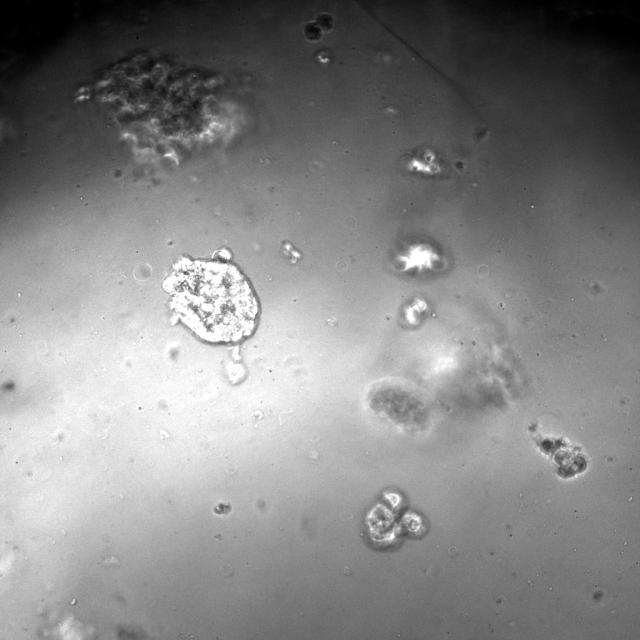organoid: (76, 51, 248, 165), (366, 332, 525, 432), (162, 251, 260, 344), (361, 487, 429, 551), (529, 422, 588, 478), (390, 234, 450, 278), (399, 145, 450, 177), (398, 295, 435, 328), (304, 13, 333, 41)
